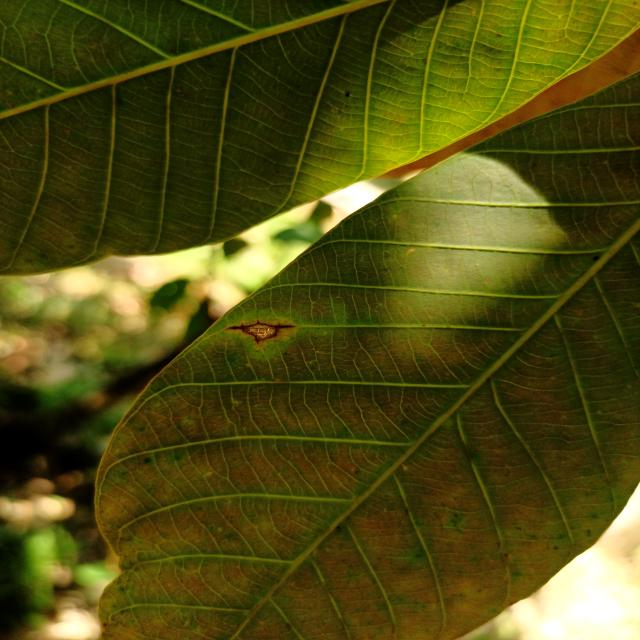Corynespora: (226, 318, 295, 345)
